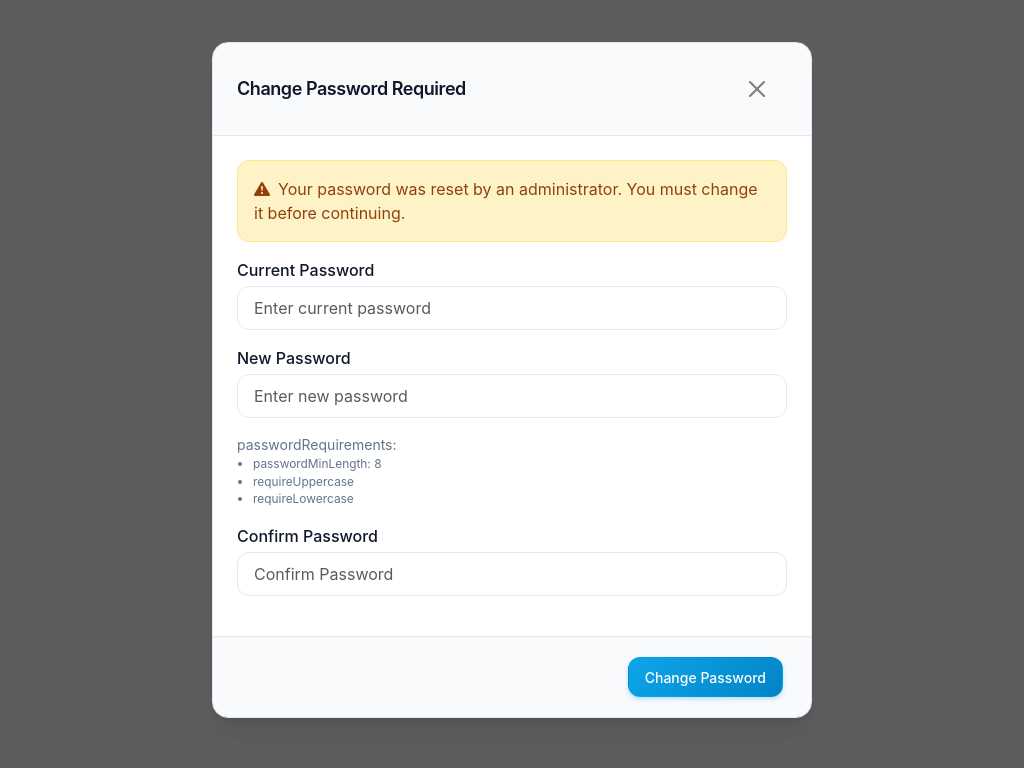
Test case: ForceChangePasswordModal › Form Validation › should show error when passwords do not match
This screenshot has width=1024, height=768.
Type "oldPassword123" into the password field named "current-password". click: x=512, y=308
box: left=237, top=286, right=787, bottom=330
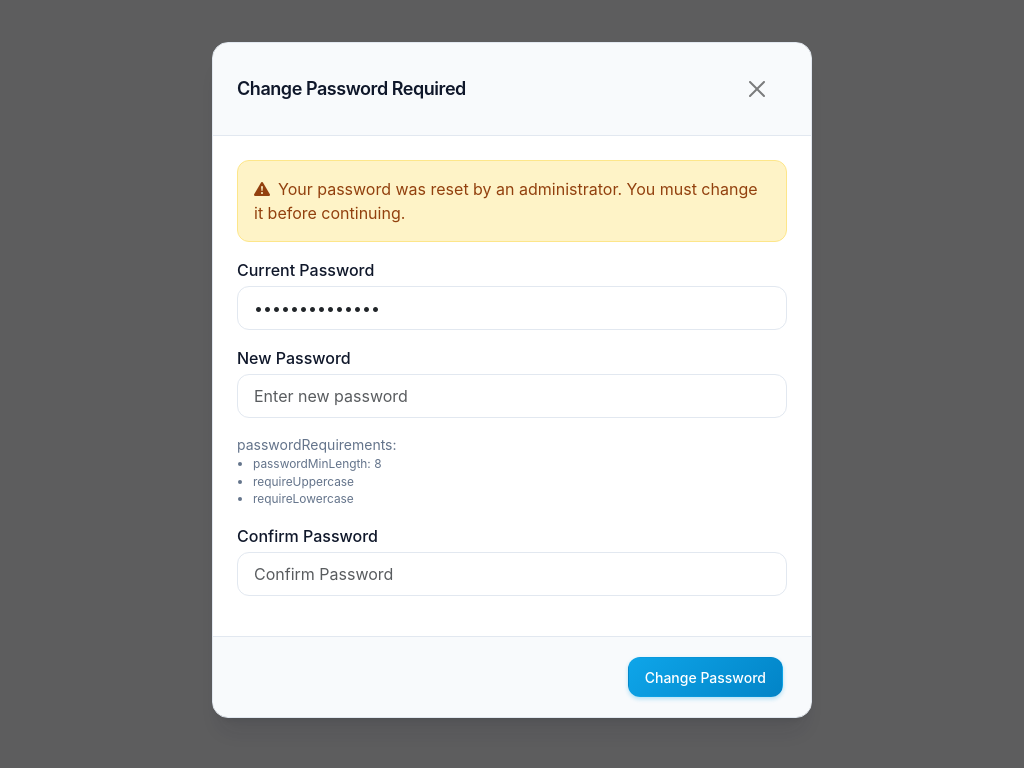
Type "newPassword123" into the password field named "new-password". click: x=512, y=396
box: left=237, top=374, right=787, bottom=418
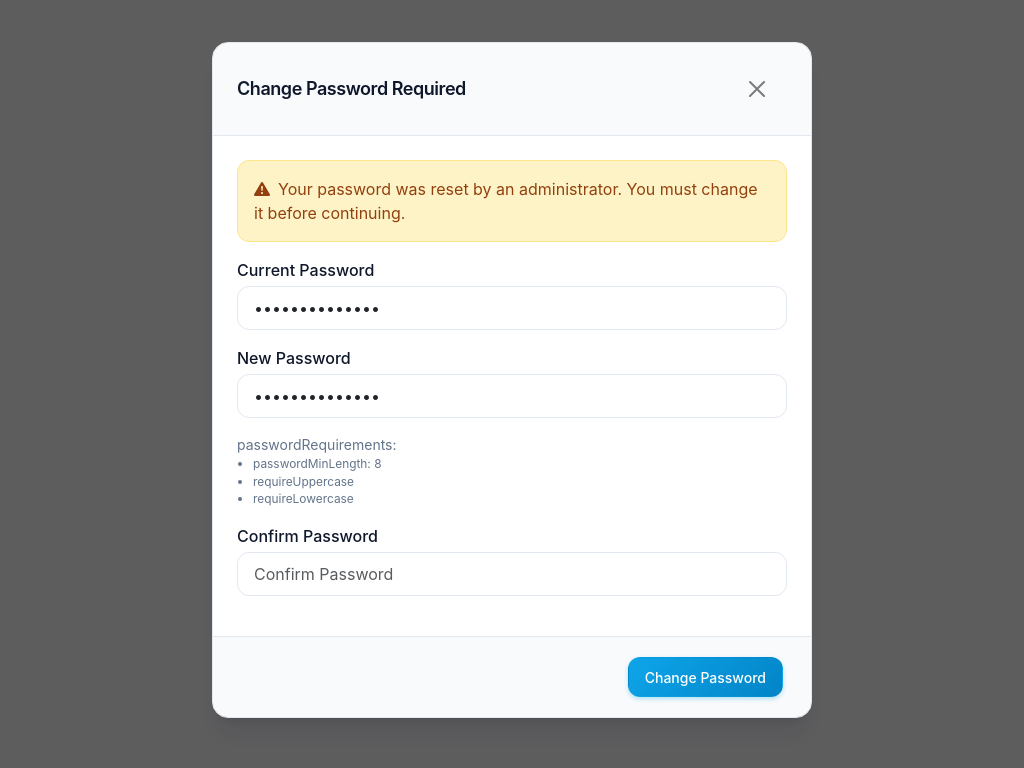
Type "differentPassword" into the password field named "confirm-password". click: x=512, y=574
box: left=237, top=552, right=787, bottom=596
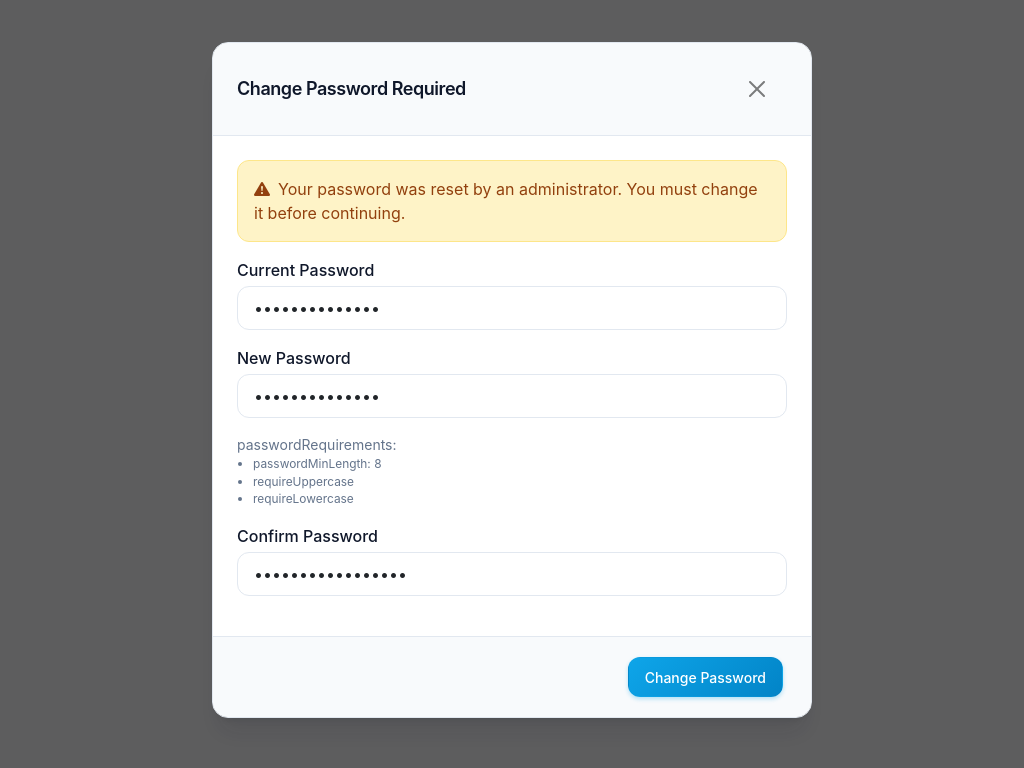
Click the button "Change Password". click: x=705, y=677
box: left=628, top=657, right=783, bottom=697
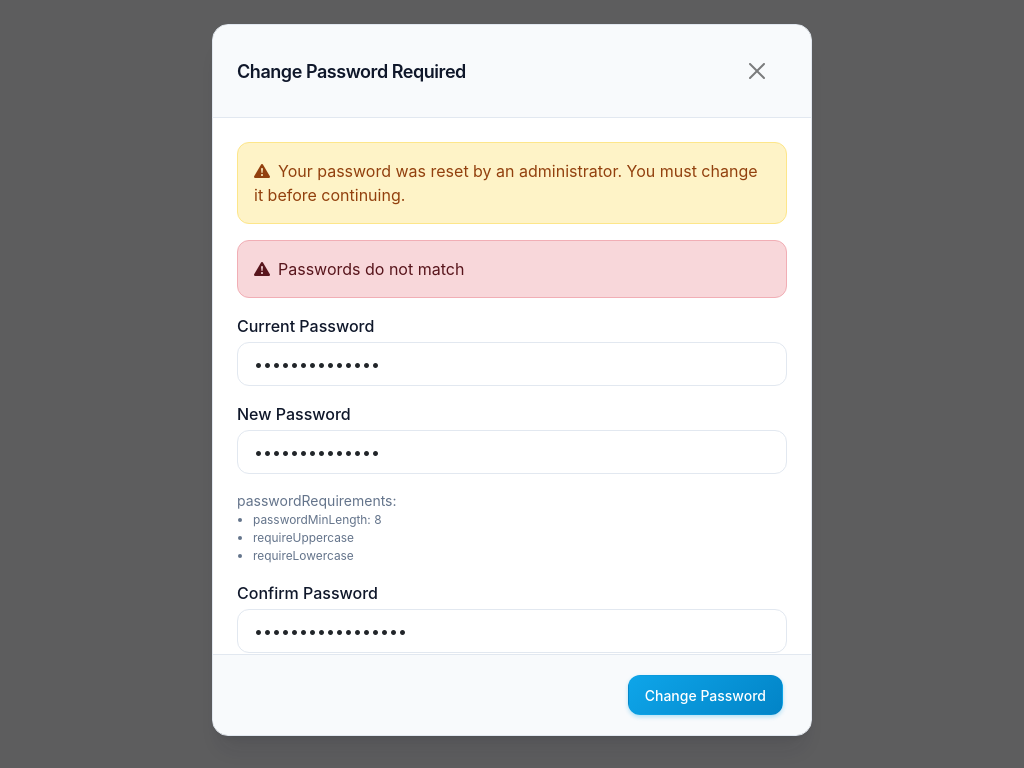
Now the text "Passwords do not match" is shown, box left=237, top=240, right=787, bottom=298
